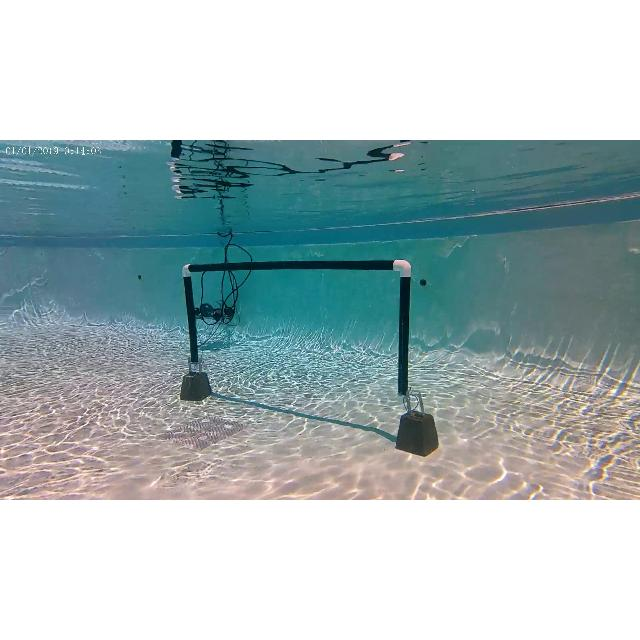prequal gate: (184, 260, 412, 404)
prequal gate leg l: (180, 262, 202, 364)
prequal gate leg r: (388, 257, 412, 399)
